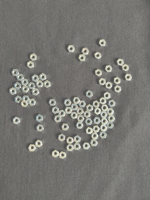nut: (35, 140, 43, 148), (59, 152, 67, 160), (73, 143, 81, 151), (66, 137, 74, 145), (58, 134, 66, 142), (54, 115, 62, 123), (64, 99, 72, 107), (86, 104, 94, 112), (21, 100, 29, 108), (14, 96, 22, 104), (9, 88, 17, 96), (14, 82, 22, 90), (11, 69, 19, 77), (30, 53, 38, 61), (99, 78, 107, 86), (122, 64, 130, 72), (99, 39, 107, 47), (67, 45, 75, 53), (28, 145, 36, 152), (52, 150, 59, 158), (83, 143, 91, 150), (90, 140, 98, 147), (36, 125, 44, 132), (61, 124, 69, 131), (13, 117, 20, 125), (36, 115, 43, 123), (91, 133, 99, 140), (86, 127, 93, 135), (100, 125, 108, 132), (76, 122, 84, 129), (101, 118, 109, 125), (94, 117, 101, 125), (108, 115, 116, 122), (59, 110, 66, 118), (52, 107, 59, 115), (49, 99, 57, 106), (77, 115, 85, 122), (71, 112, 78, 120), (65, 107, 73, 114), (84, 111, 91, 119), (71, 104, 79, 111), (94, 108, 102, 115), (101, 105, 109, 112), (73, 97, 81, 104), (109, 100, 116, 108), (104, 92, 111, 100), (28, 99, 36, 106), (32, 89, 40, 96), (22, 86, 30, 93), (21, 79, 29, 86), (28, 83, 36, 90), (36, 81, 44, 88), (16, 74, 24, 81), (27, 61, 34, 69), (106, 82, 113, 90), (114, 77, 121, 85), (125, 74, 133, 81), (95, 69, 102, 77), (105, 66, 113, 73), (117, 59, 125, 66), (95, 52, 102, 60), (67, 145, 74, 152), (74, 136, 81, 143), (100, 132, 107, 139), (93, 126, 100, 133), (107, 122, 114, 129), (77, 108, 84, 115), (101, 112, 108, 119), (93, 101, 100, 108), (79, 101, 86, 108), (86, 91, 93, 98), (100, 98, 107, 105), (44, 81, 51, 88), (32, 75, 39, 82), (115, 86, 122, 93), (79, 55, 86, 62), (82, 48, 89, 55), (85, 119, 93, 125), (107, 109, 115, 115), (22, 96, 30, 102)
